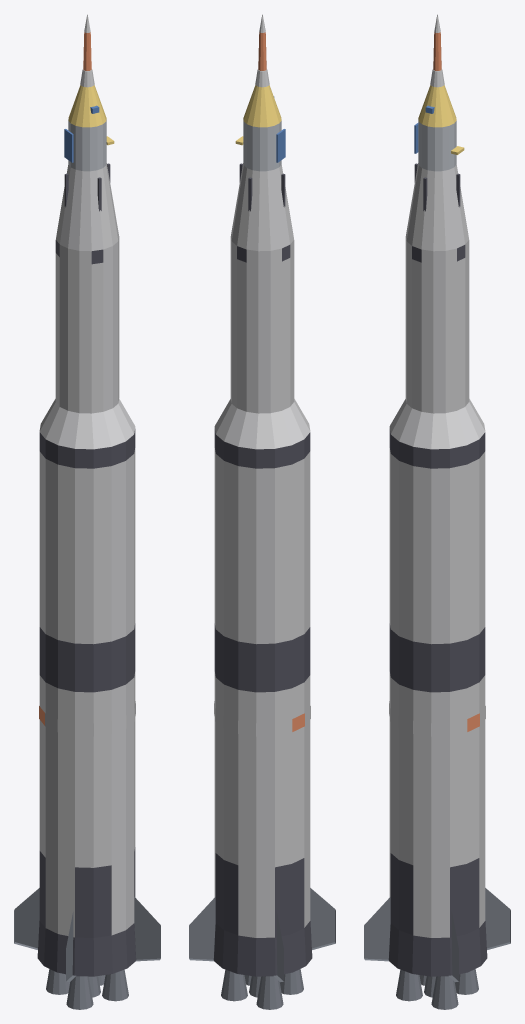
Rendered from saturn_v_lowpoly.glb.
The picture shows the model from 3 angles, left to right: view 1: azimuth 30°, elevation 25°; view 2: azimuth 150°, elevation 25°; view 3: azimuth 330°, elevation 25°; orthographic projection.
Parts seen in each view (by area): view 1: Stage1_Base, Stage2_Booster, Stage3_Orbital, Module_LandingAdapter, Cabin_CommandService, Module_EscapeTower; view 2: Stage1_Base, Stage2_Booster, Stage3_Orbital, Module_LandingAdapter, Cabin_CommandService, Module_EscapeTower; view 3: Stage1_Base, Stage2_Booster, Stage3_Orbital, Module_LandingAdapter, Cabin_CommandService, Module_EscapeTower.
Part boxes in pixels (x1,y1,x2,y2): Stage1_Base: (14, 623, 160, 1009); Stage2_Booster: (39, 398, 135, 644); Stage3_Orbital: (55, 236, 119, 413); Module_LandingAdapter: (56, 163, 118, 251); Cabin_CommandService: (64, 85, 114, 171); Module_EscapeTower: (80, 14, 94, 87); Stage1_Base: (189, 623, 335, 1009); Stage2_Booster: (214, 398, 310, 644); Stage3_Orbital: (230, 236, 294, 413); Module_LandingAdapter: (231, 163, 293, 251); Cabin_CommandService: (235, 85, 285, 171); Module_EscapeTower: (255, 14, 269, 87); Stage1_Base: (364, 623, 510, 1009); Stage2_Booster: (389, 398, 485, 644); Stage3_Orbital: (405, 236, 469, 413); Module_LandingAdapter: (406, 163, 468, 251); Cabin_CommandService: (414, 85, 464, 171); Module_EscapeTower: (430, 14, 444, 87).
Bounding box in the file's own units: 1.13 × 11.15 × 1.13.
